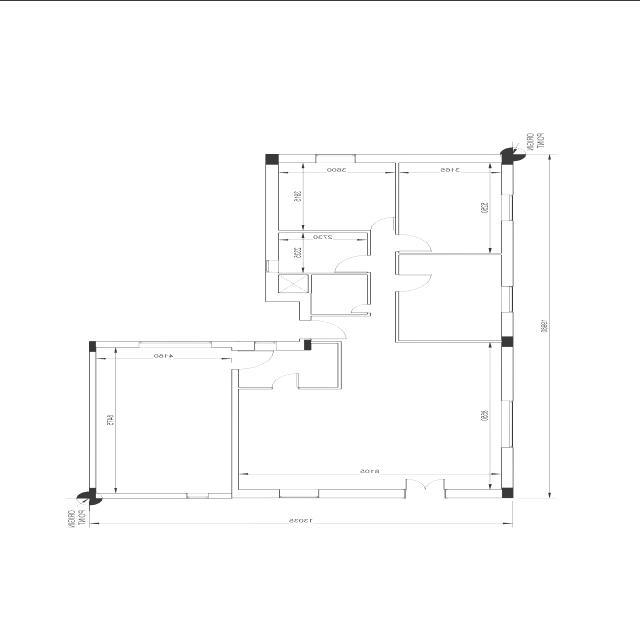Column: (265, 153, 279, 164), (502, 335, 514, 346), (502, 153, 514, 164), (502, 487, 514, 497), (304, 339, 312, 349), (89, 340, 97, 350), (90, 487, 96, 497)
Door: (298, 318, 348, 338), (230, 348, 274, 368), (332, 254, 372, 272), (393, 233, 432, 251), (394, 273, 432, 291), (368, 216, 398, 234), (272, 372, 300, 388), (350, 302, 372, 312)
Double-Door: (403, 478, 448, 498)
Window: (499, 398, 516, 448), (136, 339, 214, 348), (500, 284, 516, 312), (314, 152, 358, 162), (278, 488, 320, 498), (500, 193, 515, 221), (254, 340, 278, 350), (264, 258, 280, 272), (186, 492, 210, 498)
